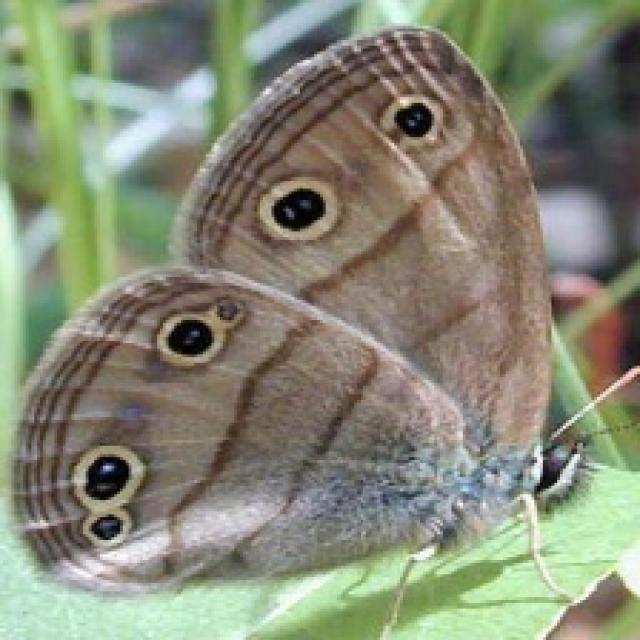butterfly: (6, 20, 637, 637)
